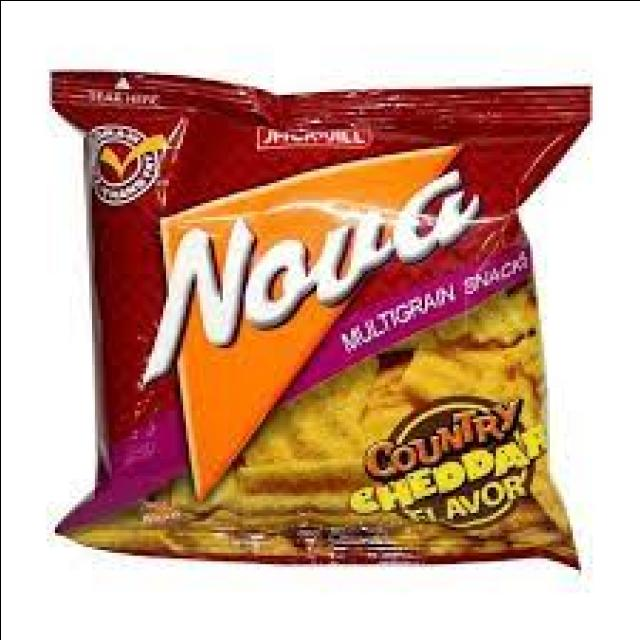junkfood wrapper: (51, 73, 586, 564)
